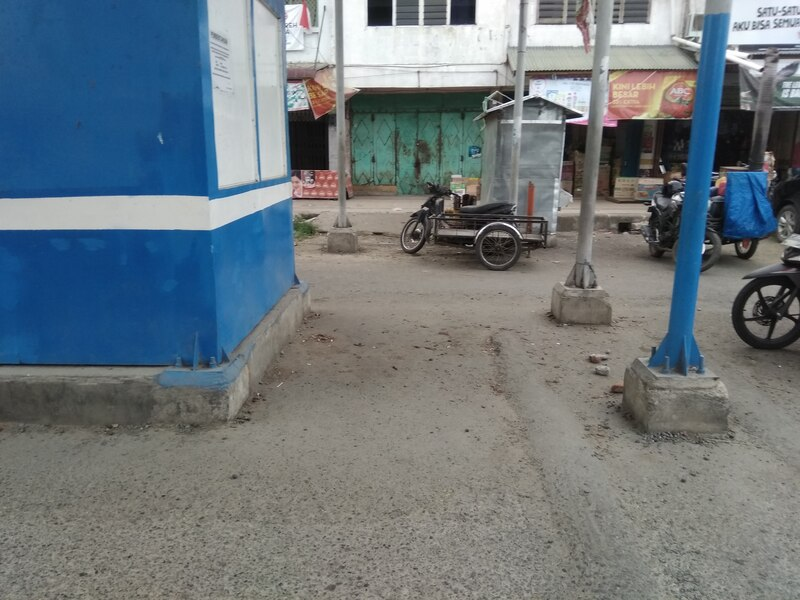becak barang: (397, 162, 554, 274)
